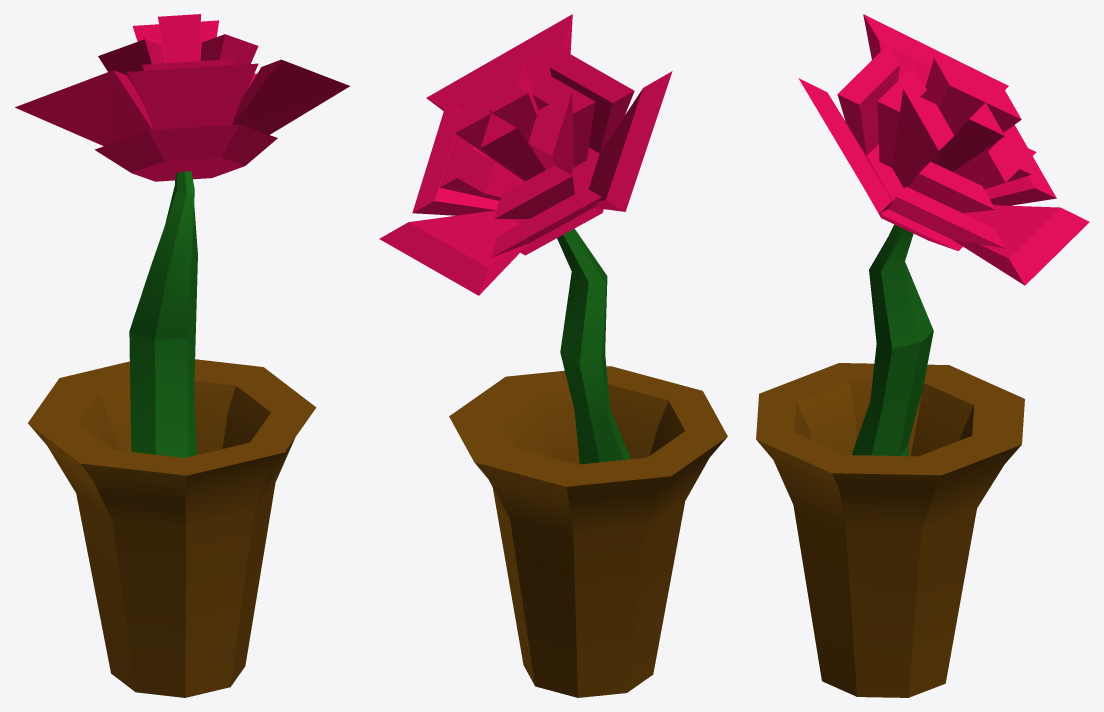
The model's file is Flowerpot.fbx.
3 views of the same model, side by side, from view 1: azimuth 30°, elevation 25°; view 2: azimuth 150°, elevation 25°; view 3: azimuth 270°, elevation 25° (orthographic). The views are drawn at different scales.
Parts seen in each view (by area): view 1: office_stuff:pCylinder17, office_stuff:pasted__pCylinder6, office_stuff:pasted__polySurface4; view 2: office_stuff:pCylinder17, office_stuff:pasted__pCylinder6, office_stuff:pasted__polySurface4; view 3: office_stuff:pCylinder17, office_stuff:pasted__pCylinder6, office_stuff:pasted__polySurface4.
Part boxes in pixels (x1,y1,x2,y2): office_stuff:pCylinder17: (28,359,316,697); office_stuff:pasted__pCylinder6: (15,14,349,181); office_stuff:pasted__polySurface4: (129,171,197,457); office_stuff:pCylinder17: (449,366,727,697); office_stuff:pasted__pCylinder6: (379,14,672,295); office_stuff:pasted__polySurface4: (557,228,630,464); office_stuff:pCylinder17: (756,363,1024,697); office_stuff:pasted__pCylinder6: (798,14,1089,285); office_stuff:pasted__polySurface4: (851,224,933,456).
Bounding box in the file's own units: 5.57 × 11.54 × 5.6.
